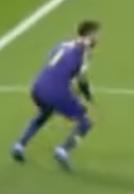goalkeeper: (8, 8, 118, 172)
